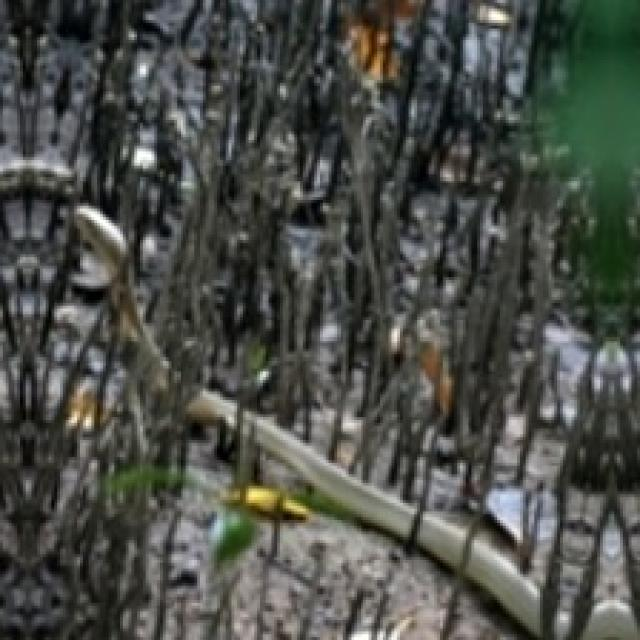king cobra: (0, 0, 637, 637), (186, 389, 543, 634), (180, 406, 454, 574), (549, 460, 637, 637)
